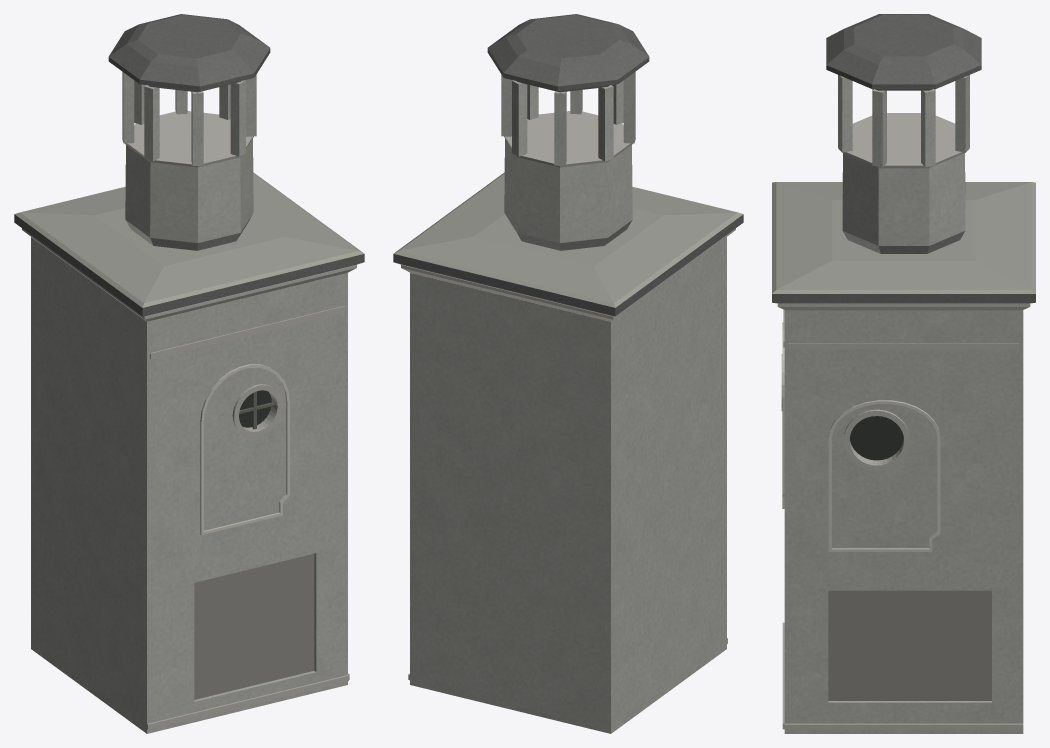
Rendered from yangpu-yangshupu-fire-brigade-historic-tower-crown-lod.glb.
The picture shows the model from 3 angles, left to right: view 1: azimuth 30°, elevation 25°; view 2: azimuth 150°, elevation 25°; view 3: azimuth 270°, elevation 25°; orthographic projection. The views are drawn at different scales.
Parts seen in each view (by area): view 1: 杨树浦救火会旧望塔圆眼与敞亭塔冠; view 2: 杨树浦救火会旧望塔圆眼与敞亭塔冠; view 3: 杨树浦救火会旧望塔圆眼与敞亭塔冠.
Boxes of the visible parts, bbox=[...] form: 杨树浦救火会旧望塔圆眼与敞亭塔冠: bbox=[14, 14, 364, 733]; 杨树浦救火会旧望塔圆眼与敞亭塔冠: bbox=[393, 14, 743, 733]; 杨树浦救火会旧望塔圆眼与敞亭塔冠: bbox=[772, 14, 1035, 733].
Bounding box in the file's own units: 1.11 × 3 × 1.11.
Materials: 9 (2 with a texture image).
